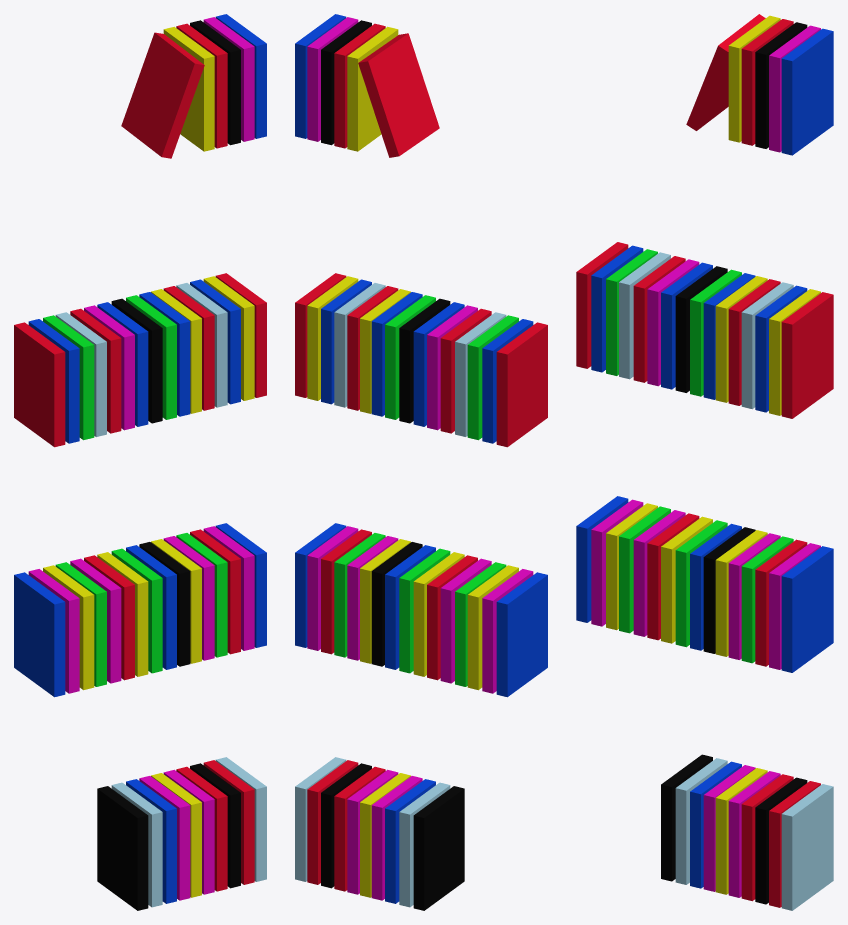
File: DVDs.fbx
3 views of the same model, side by side, from view 1: azimuth 30°, elevation 25°; view 2: azimuth 150°, elevation 25°; view 3: azimuth 330°, elevation 25° (orthographic).
Visible parts, largest first — view 1: TV_And_Console.001; view 2: TV_And_Console.001; view 3: TV_And_Console.001.
Boxes of the visible parts, <box> form: TV_And_Console.001: <box>14,14,266,910</box>; TV_And_Console.001: <box>295,14,547,910</box>; TV_And_Console.001: <box>576,14,833,910</box>.
Size of the model in its own units: 191 by 719 by 64.67.
